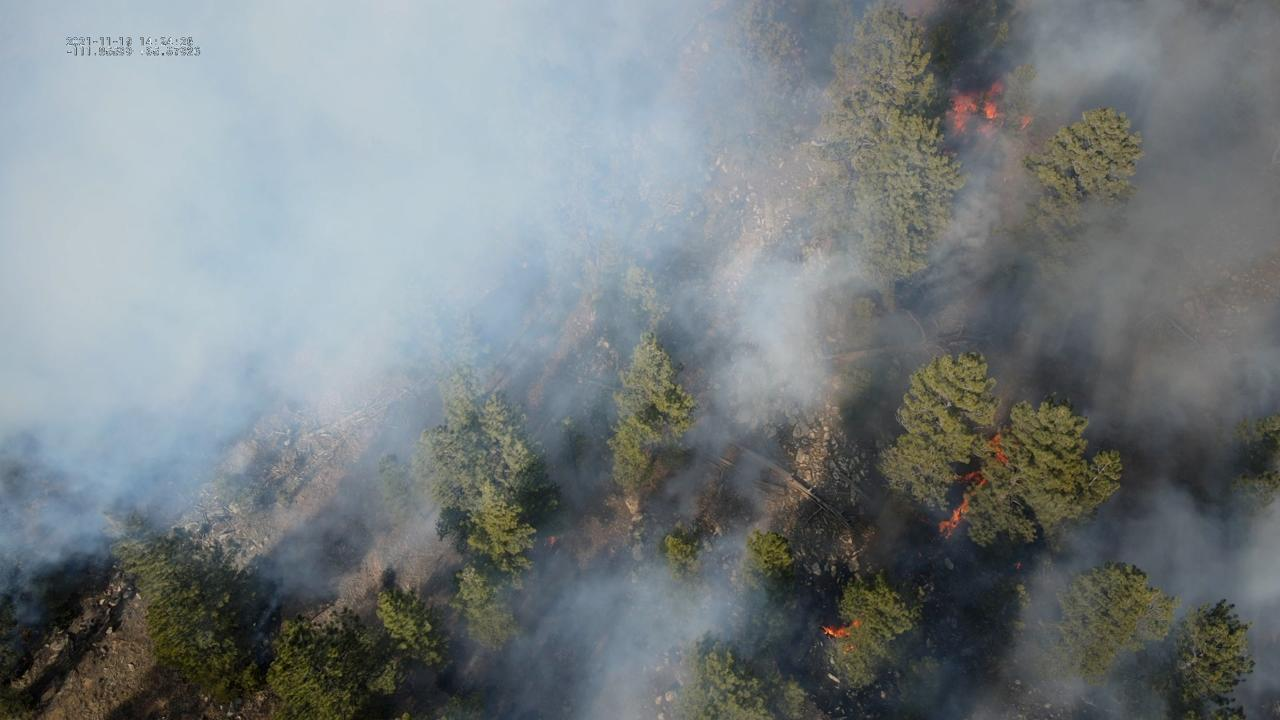fire: (943, 79, 1004, 137), (938, 495, 971, 539), (820, 619, 862, 640), (989, 431, 1010, 466), (960, 469, 988, 488), (1020, 117, 1030, 130), (548, 535, 558, 546), (1015, 562, 1022, 569)
smoke: (0, 0, 1280, 720)
